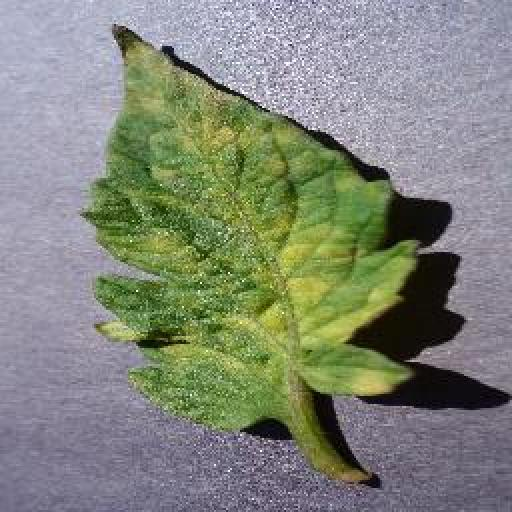disease_tomato: (79, 22, 415, 430)
